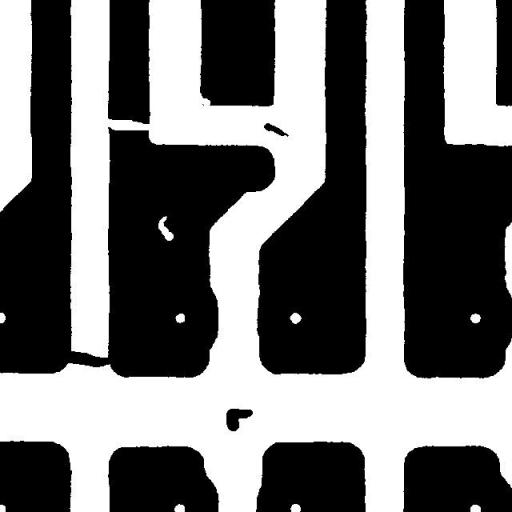copper: (218, 401, 260, 438), (256, 115, 296, 144)
mousebite: (188, 85, 218, 113)
open: (94, 110, 162, 138)
pin-hole: (150, 208, 181, 248)
short: (49, 344, 119, 374)
